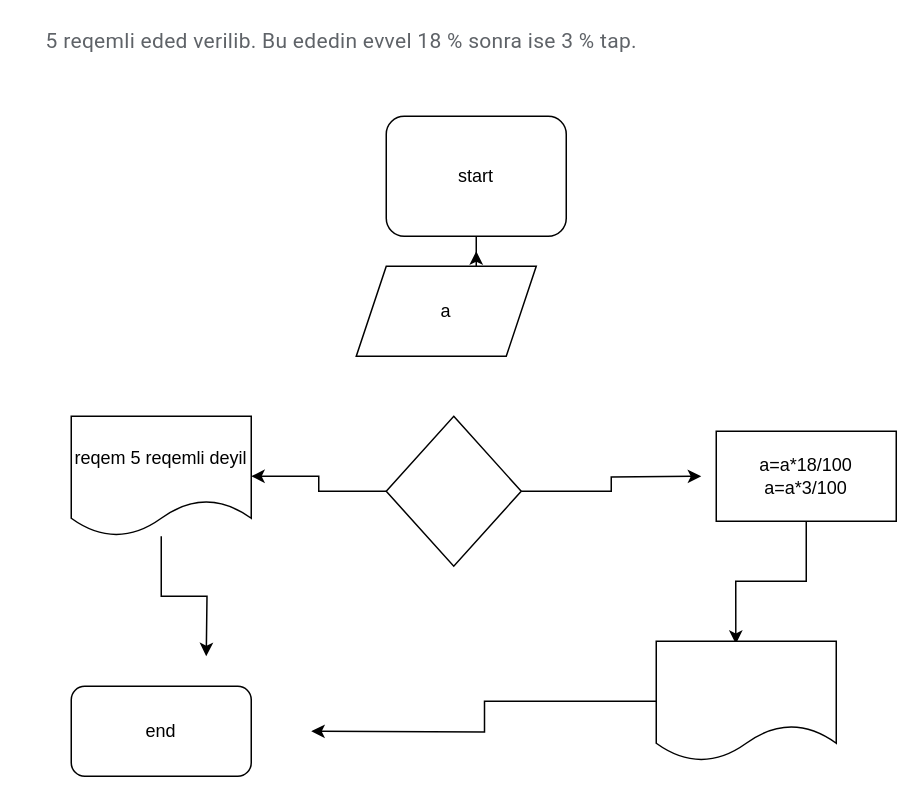
Image size: 923x803. Some labels were removed from this diagram. The box of each missing label's shape, as (x1, y1, x2, y2) in pixels:
a>=10000 a<100000: (385, 415, 521, 566)
cavab a: (655, 640, 836, 761)
